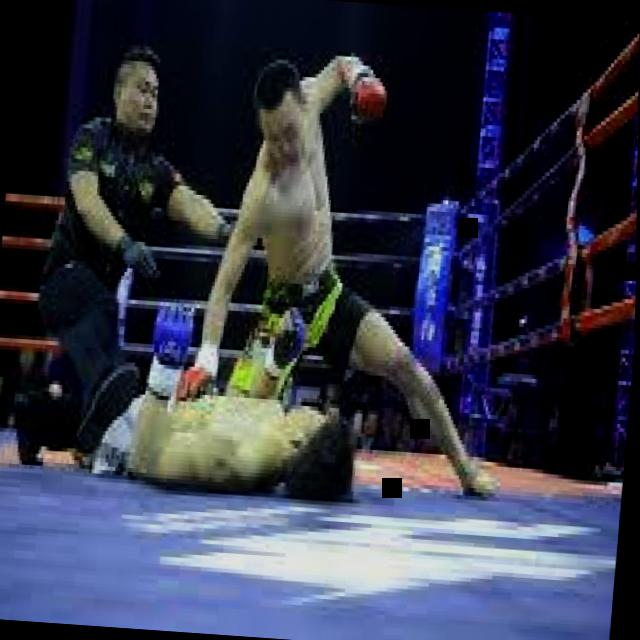Fall-Detected: (53, 322, 367, 503)
